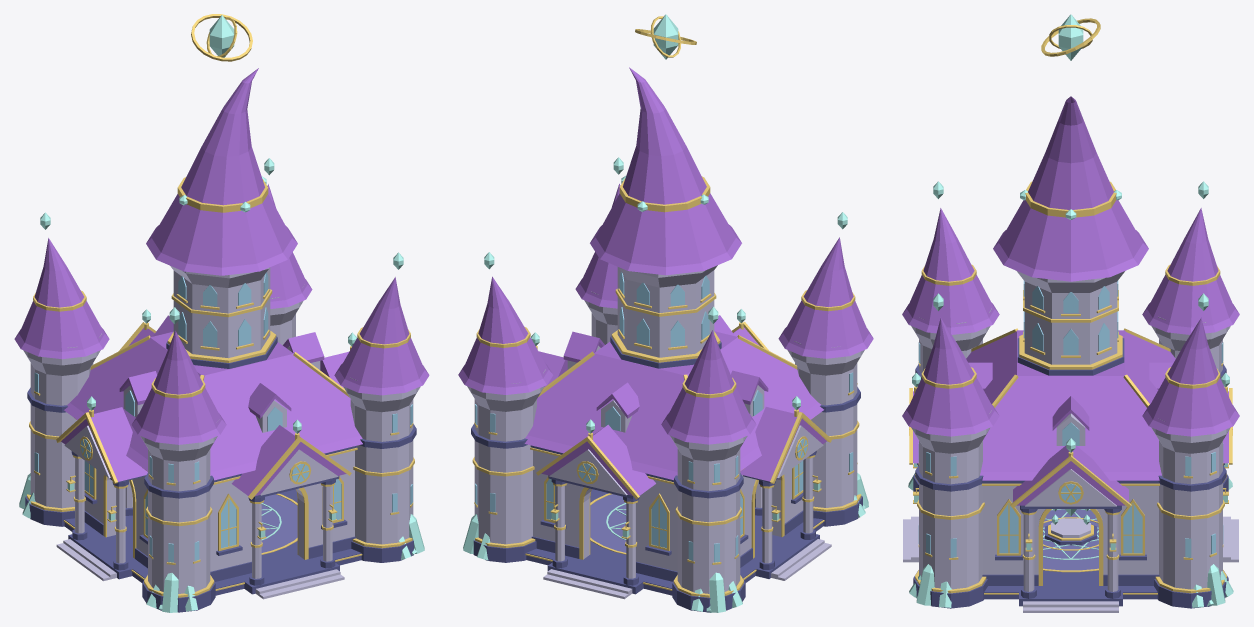
File: sanctum.fbx
3 views of the same model, side by side, from view 1: azimuth 30°, elevation 25°; view 2: azimuth 150°, elevation 25°; view 3: azimuth 270°, elevation 25° (orthographic). The views are drawn at different scales.
Parts seen in each view (by area): view 1: Roof_sanctum, Stone_sanctum, Gold_sanctum, Dark_sanctum, Glass_sanctum, Glow_sanctum, Floor_sanctum; view 2: Roof_sanctum, Stone_sanctum, Dark_sanctum, Gold_sanctum, Glass_sanctum, Glow_sanctum, Floor_sanctum; view 3: Roof_sanctum, Stone_sanctum, Gold_sanctum, Dark_sanctum, Glass_sanctum, Glow_sanctum, Floor_sanctum.
Boxes of the visible parts, <box> form: Roof_sanctum: <box>14,68,429,495</box>; Stone_sanctum: <box>23,266,420,599</box>; Gold_sanctum: <box>27,14,414,597</box>; Dark_sanctum: <box>25,336,416,612</box>; Glass_sanctum: <box>34,272,412,562</box>; Glow_sanctum: <box>19,15,424,612</box>; Floor_sanctum: <box>261,494,297,552</box>; Roof_sanctum: <box>458,67,873,495</box>; Stone_sanctum: <box>467,265,864,599</box>; Dark_sanctum: <box>471,336,862,612</box>; Gold_sanctum: <box>472,16,861,597</box>; Glass_sanctum: <box>475,271,853,562</box>; Glow_sanctum: <box>463,14,868,612</box>; Floor_sanctum: <box>590,494,626,552</box>; Roof_sanctum: <box>902,96,1239,505</box>; Stone_sanctum: <box>903,271,1238,612</box>; Gold_sanctum: <box>909,18,1232,594</box>; Dark_sanctum: <box>913,338,1228,608</box>; Glass_sanctum: <box>918,280,1223,557</box>; Glow_sanctum: <box>908,14,1233,607</box>; Floor_sanctum: <box>1043,509,1098,570</box>.
Size of the model in its own units: 84.4 by 146 by 84.4.
